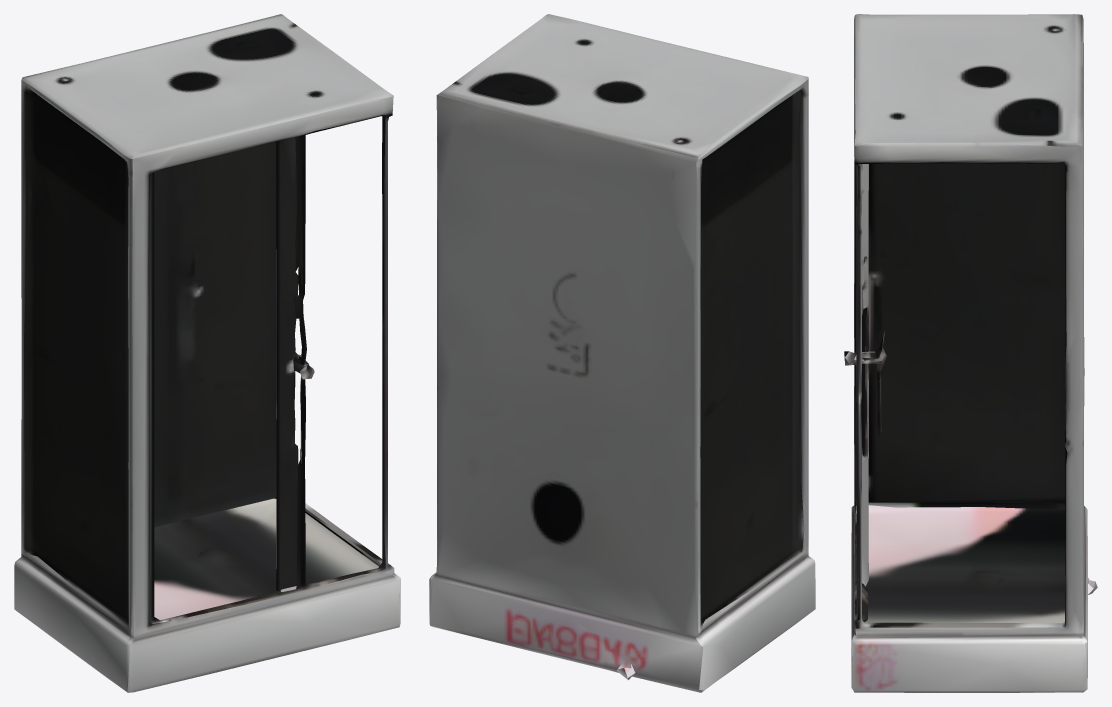
File: Douche2_3D_textured.glb
The picture shows the model from 3 angles, left to right: view 1: azimuth 30°, elevation 25°; view 2: azimuth 150°, elevation 25°; view 3: azimuth 270°, elevation 25°; orthographic projection. The views are drawn at different scales.
Visible parts, largest first — view 1: temp_mesh.ply; view 2: temp_mesh.ply; view 3: temp_mesh.ply.
Boxes of the visible parts, x1,y1,x2,y2 form: temp_mesh.ply: [14, 14, 400, 692]; temp_mesh.ply: [429, 14, 815, 692]; temp_mesh.ply: [844, 14, 1097, 692].
Bounding box in the file's own units: 1.06 × 1.98 × 0.8298.
1 material, 1 textured.
